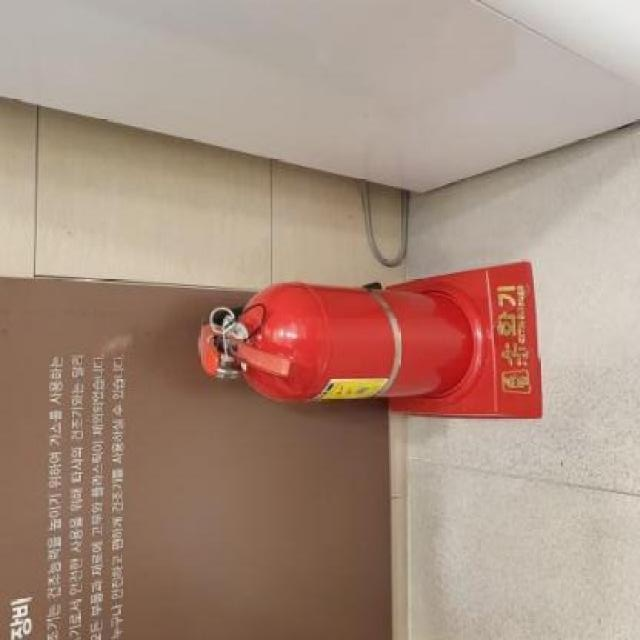fire extinguisher: (198, 282, 473, 403)
